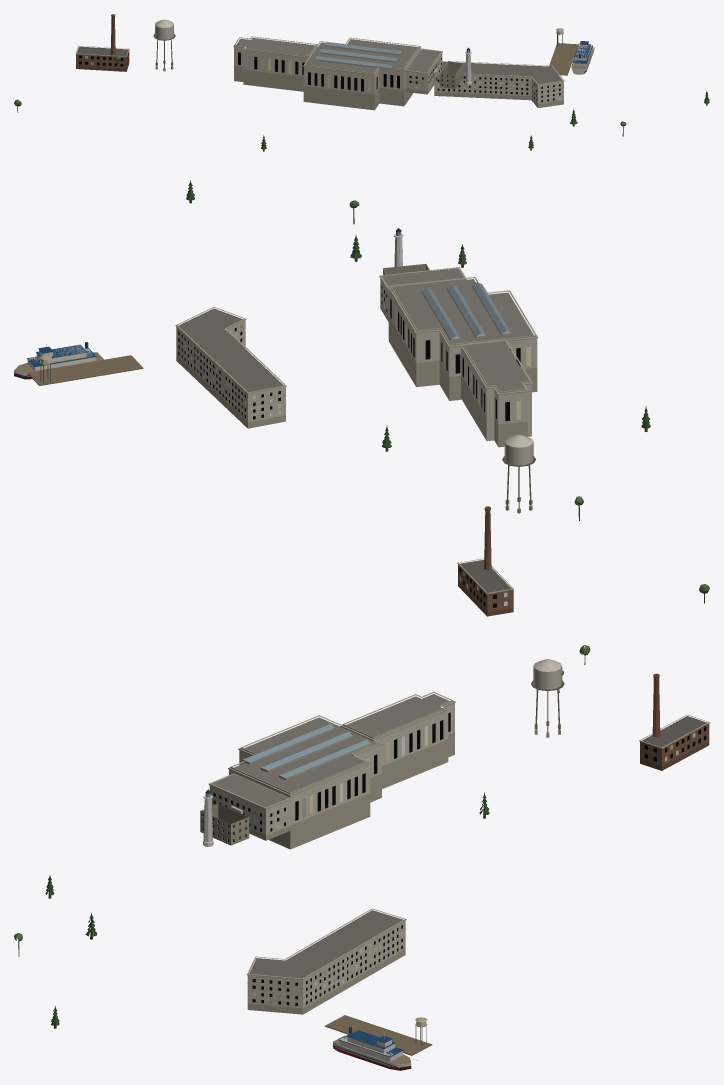
File: alcatraz_lod1.glb
3 views of the same model, one above another, from view 1: azimuth 30°, elevation 25°; view 2: azimuth 150°, elevation 25°; view 3: azimuth 270°, elevation 25° (orthographic). The views are drawn at different scales.
Visible parts, largest first — view 1: L1_concrete, L1_roof, L1_win, L1_brickred, L1_glassc, L1_paint, L1_wood, L1_stucco, L1_leaf; view 2: L1_concrete, L1_roof, L1_win, L1_paint, L1_wood, L1_glassc, L1_brickred, L1_leaf; view 3: L1_concrete, L1_roof, L1_win, L1_paint, L1_brickred, L1_glassc, L1_wood, L1_stucco.
Boxes of the visible parts, bbox=[...] form: L1_concrete: bbox=[75, 28, 564, 110]; L1_roof: bbox=[77, 38, 562, 83]; L1_win: bbox=[79, 31, 563, 102]; L1_brickred: bbox=[76, 14, 129, 71]; L1_glassc: bbox=[315, 42, 470, 68]; L1_paint: bbox=[155, 19, 594, 74]; L1_wood: bbox=[436, 43, 593, 80]; L1_stucco: bbox=[439, 61, 463, 88]; L1_leaf: bbox=[14, 55, 709, 149]; L1_concrete: bbox=[40, 233, 537, 594]; L1_roof: bbox=[178, 268, 533, 592]; L1_win: bbox=[41, 286, 530, 607]; L1_paint: bbox=[14, 342, 533, 465]; L1_wood: bbox=[14, 352, 143, 385]; L1_glassc: bbox=[396, 232, 511, 338]; L1_brickred: bbox=[458, 506, 513, 616]; L1_leaf: bbox=[186, 181, 709, 593]; L1_concrete: bbox=[203, 691, 709, 1027]; L1_roof: bbox=[212, 694, 706, 978]; L1_win: bbox=[213, 712, 706, 1026]; L1_paint: bbox=[332, 659, 562, 1070]; L1_brickred: bbox=[640, 673, 709, 770]; L1_glassc: bbox=[205, 723, 370, 797]; L1_wood: bbox=[324, 1015, 432, 1063]; L1_stucco: bbox=[200, 803, 249, 845].
Size of the model in its own units: 391 by 69.3 by 300.
